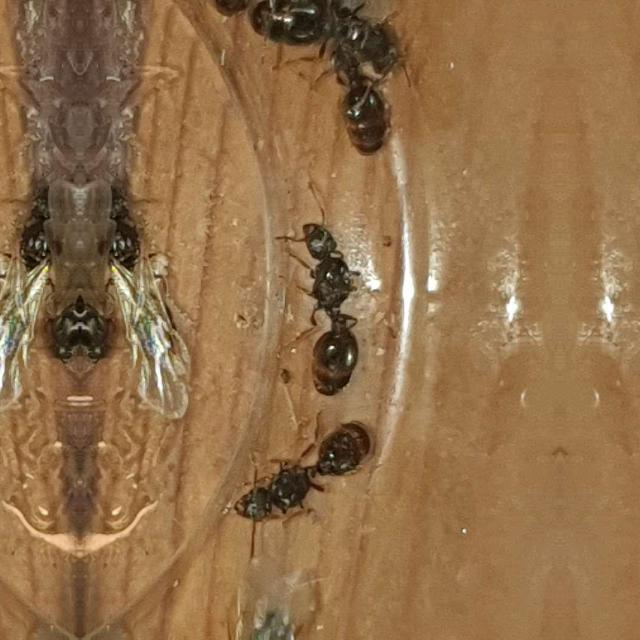Tetramorium: (220, 394, 398, 536), (99, 176, 191, 414), (268, 213, 364, 409), (0, 175, 58, 412), (240, 0, 408, 78), (330, 45, 388, 168), (78, 276, 108, 380), (50, 276, 80, 380)
